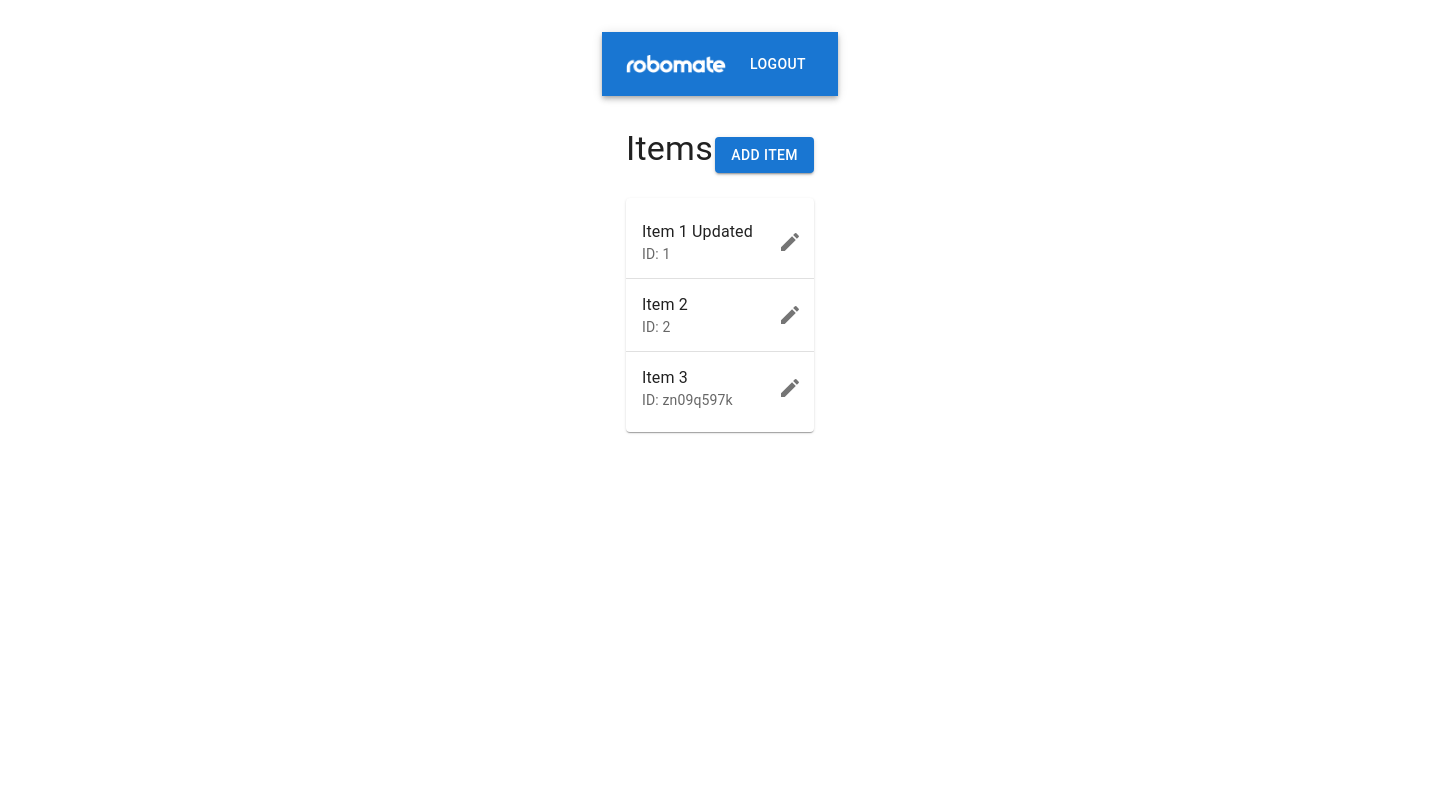
Scenario: ItemsPage › can cancel the dialog without changes
The width and height of the screenshot is (1440, 810).
Click the button "Add Item": (765, 155) [715,137,814,173]
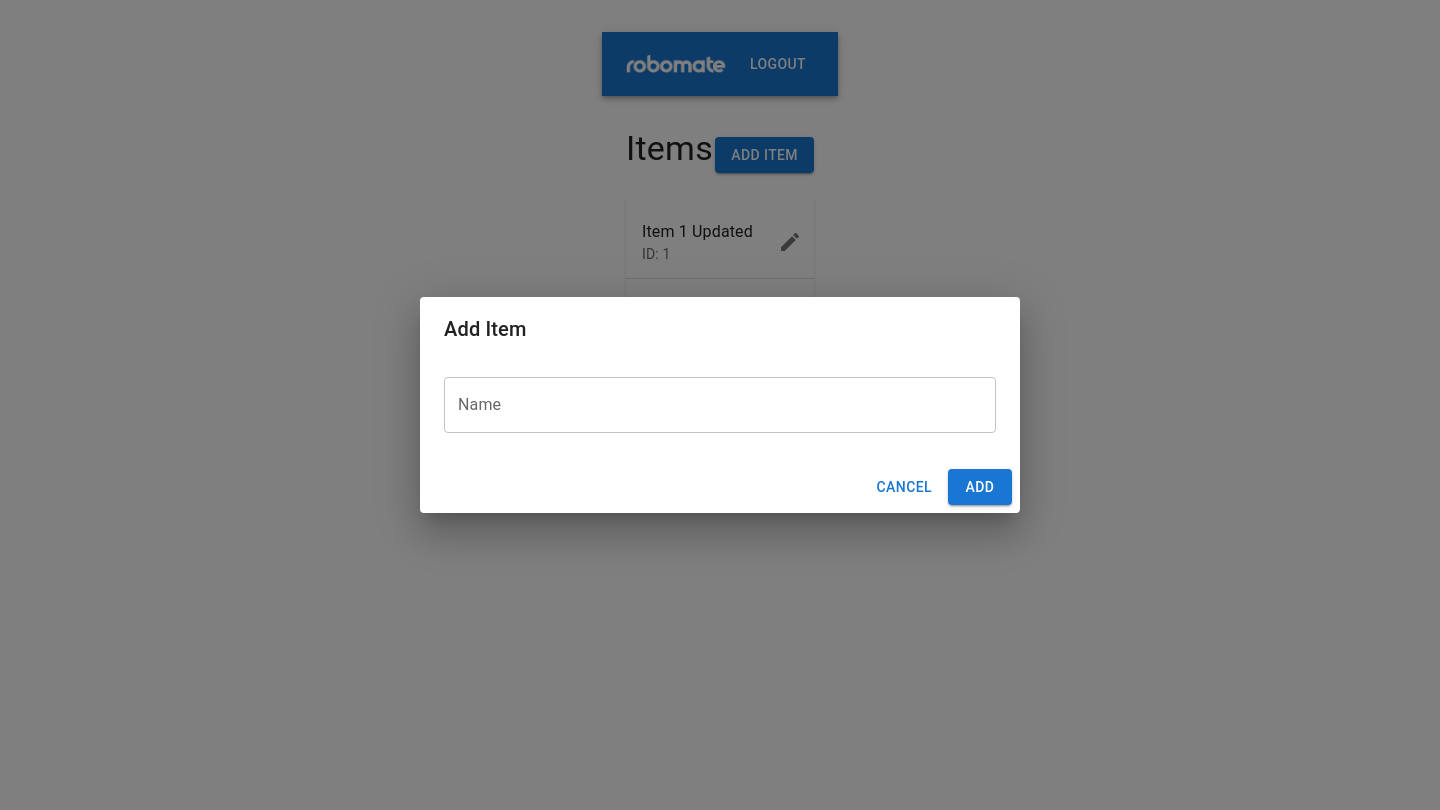
Expected: the dialog is shown, [420,297,1020,513]
Click the button "Cancel": (904, 487) [868,469,940,505]
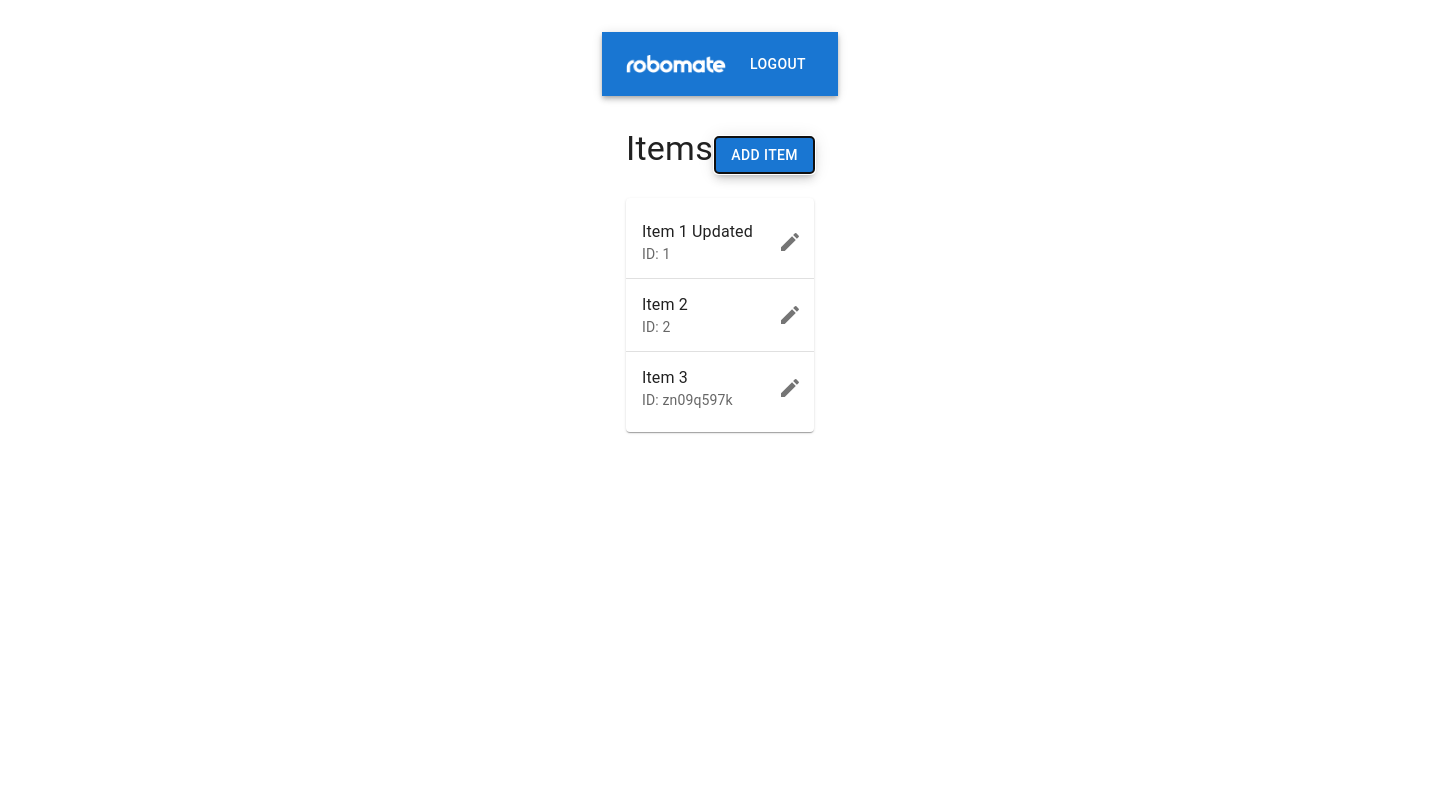
Expected: the dialog is gone
